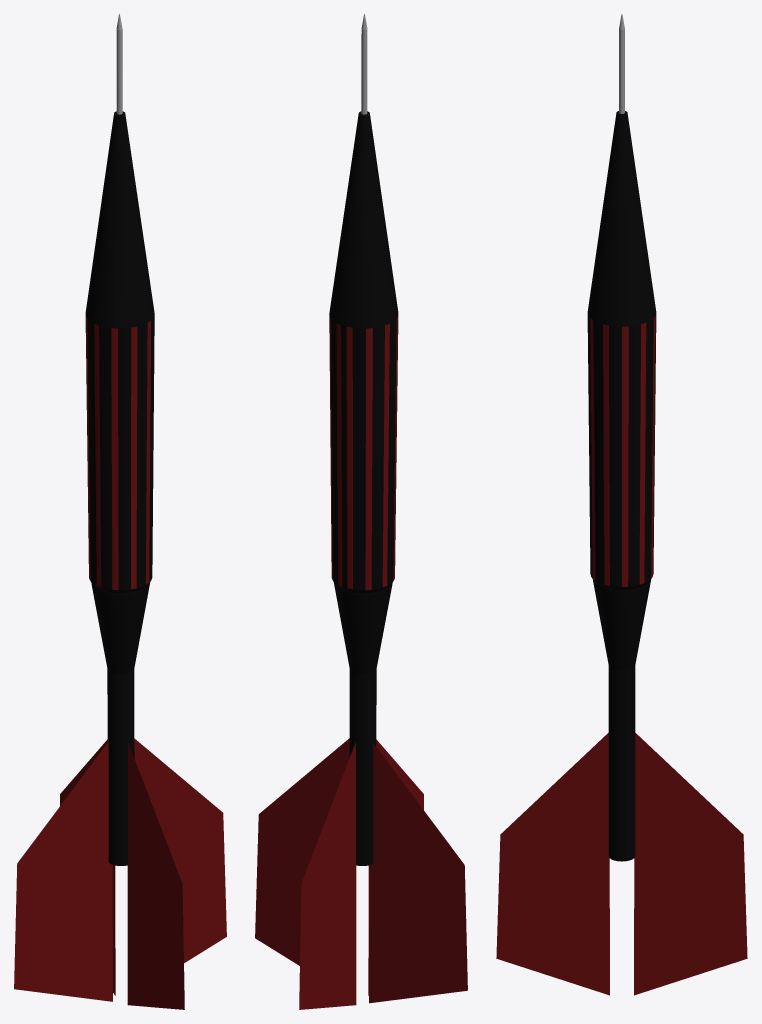
Rendered from DartModel.obj.
3 renders of one model, left to right at view 1: azimuth 30°, elevation 25°; view 2: azimuth 150°, elevation 25°; view 3: azimuth 270°, elevation 25°, orthographic.
Visible parts, largest first — view 1: Cylinder, Plane, Plane.001; view 2: Cylinder, Plane, Plane.001; view 3: Plane.001, Cylinder.
Part boxes in pixels (x1,y1,x2,y2): Cylinder: (85,14,154,865); Plane: (14,738,226,1001); Plane.001: (60,739,184,1009); Cylinder: (329,14,398,865); Plane: (255,738,467,1003); Plane.001: (299,739,423,1009); Plane.001: (496,733,747,995); Cylinder: (587,14,656,861).
Bounding box in the file's own units: 1.81 × 8.01 × 1.86.
